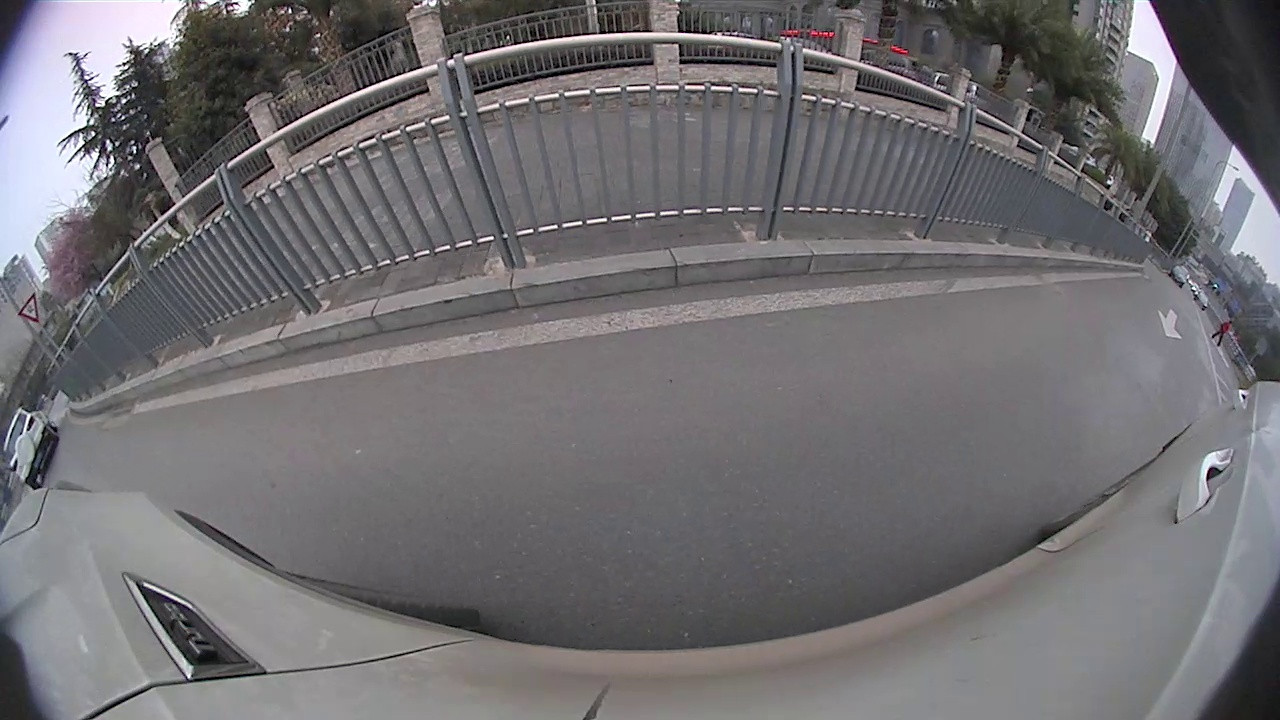car: (2, 309, 69, 397), (1179, 354, 1223, 417)
front: (1191, 396, 1208, 408)
rear: (42, 326, 73, 355), (1203, 406, 1215, 419)
